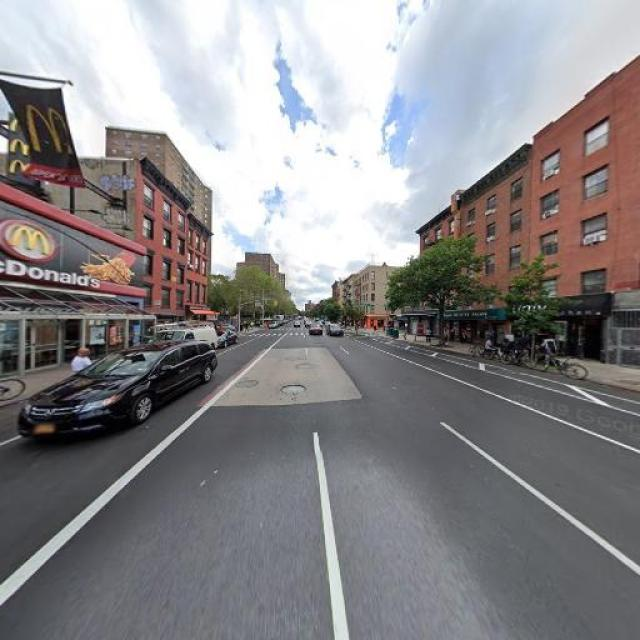Building: (534, 63, 640, 364), (1, 179, 137, 369), (459, 148, 529, 350), (140, 165, 185, 345)
